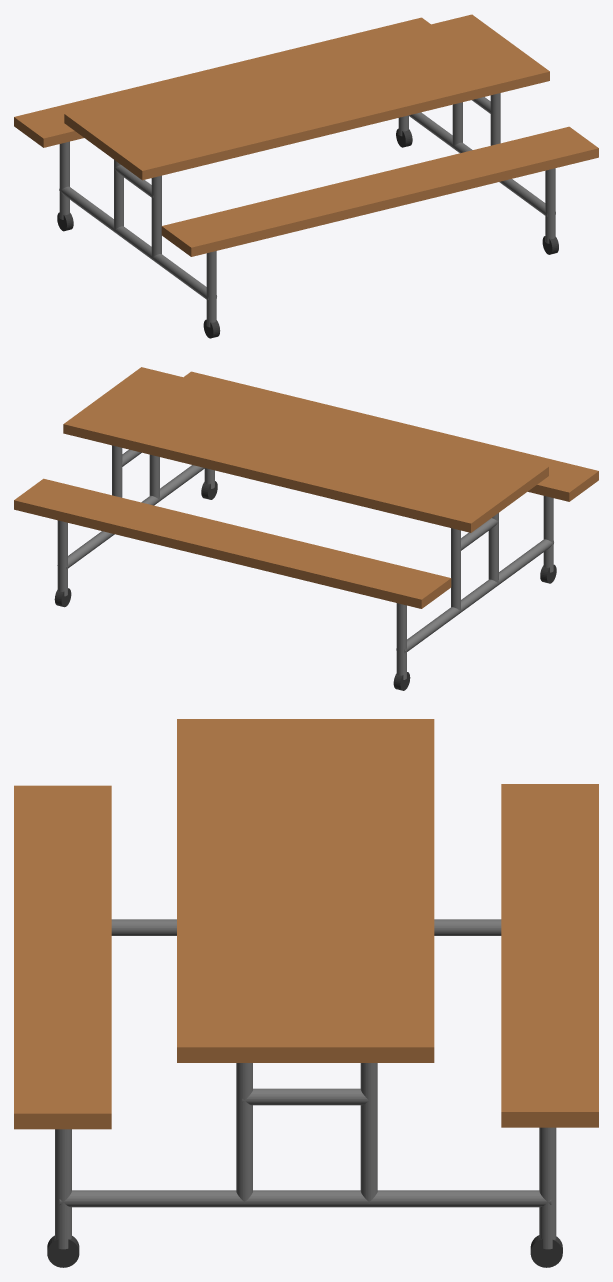
File: lunchtable.fbx
3 views of the same model, one above another, from view 1: azimuth 30°, elevation 25°; view 2: azimuth 150°, elevation 25°; view 3: azimuth 270°, elevation 25° (orthographic). The views are drawn at different scales.
Parts seen in each view (by area): view 1: Cylinder.015; view 2: Cylinder.015; view 3: Cylinder.015.
Part boxes in pixels (<box>): Cylinder.015: <box>14,14,598,338</box>; Cylinder.015: <box>14,367,598,690</box>; Cylinder.015: <box>14,719,598,1267</box>.
Bounding box in the file's own units: 2413 × 844 × 1815.
